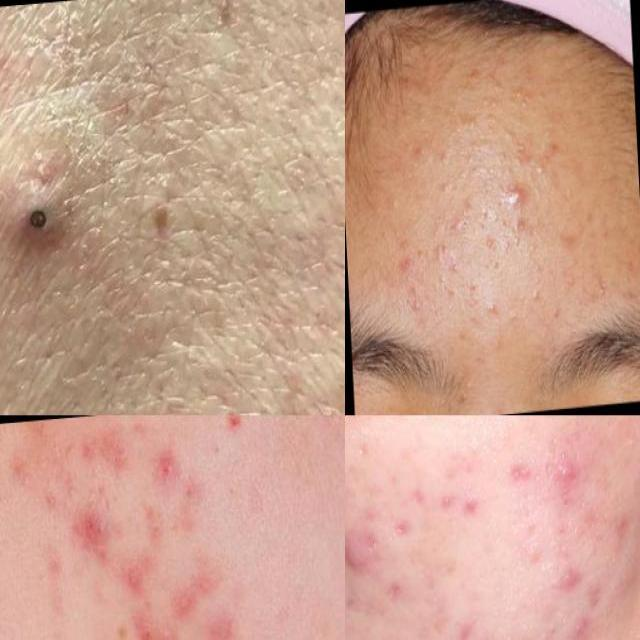Pimples: (390, 466, 486, 554), (2, 172, 76, 258), (530, 432, 592, 514), (72, 508, 119, 583), (345, 529, 381, 597), (142, 442, 178, 502), (503, 88, 536, 122), (453, 604, 484, 640), (502, 180, 527, 223), (123, 558, 147, 600), (621, 416, 640, 454), (126, 616, 154, 640)
